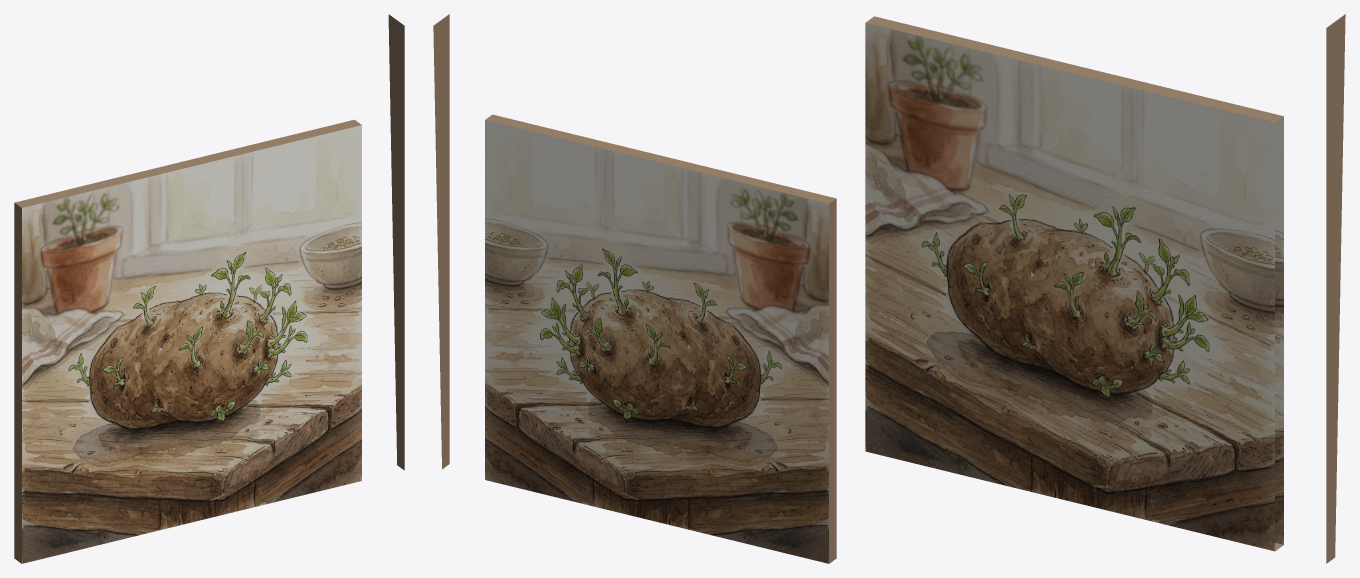
File: potato.glb
The picture shows the model from 3 angles, left to right: view 1: azimuth 30°, elevation 25°; view 2: azimuth 150°, elevation 25°; view 3: azimuth 330°, elevation 25°; orthographic projection. The views are drawn at different scales.
Size of the model in its own units: 0.9 by 1 by 0.065.
1 material, 1 textured.
